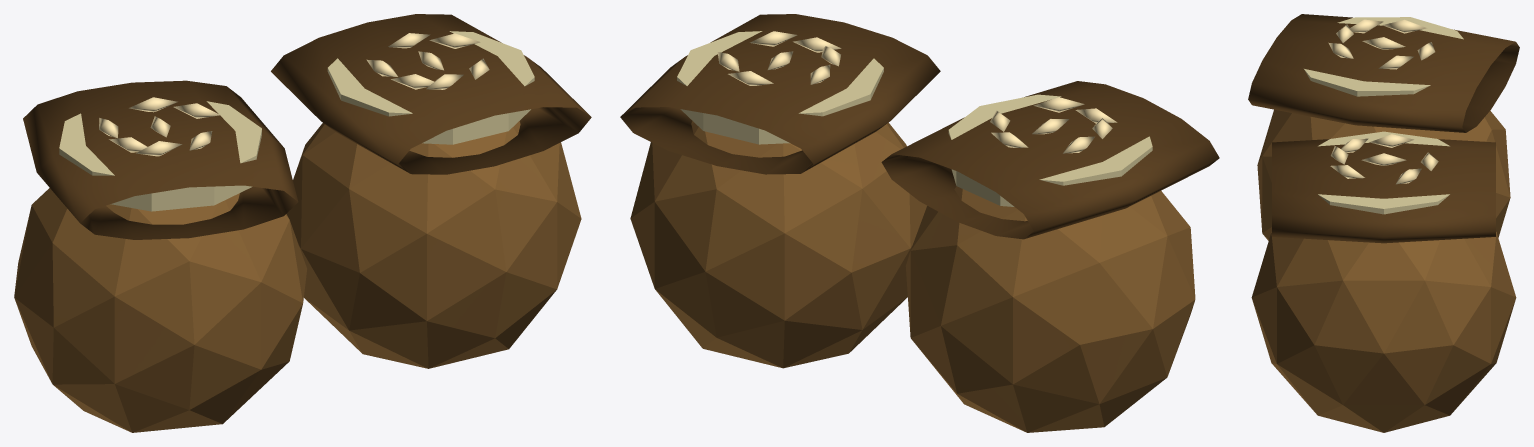
Rendered from pile-milledRice-2.obj.
3 views of the same model, side by side, from view 1: azimuth 30°, elevation 25°; view 2: azimuth 150°, elevation 25°; view 3: azimuth 270°, elevation 25° (orthographic). The views are drawn at different scales.
Visible parts, largest first — view 1: pile-milledRice-2; view 2: pile-milledRice-2; view 3: pile-milledRice-2.
Boxes of the visible parts, left/top/right/bottom form: pile-milledRice-2: left=14, top=14, right=591, bottom=432; pile-milledRice-2: left=620, top=14, right=1219, bottom=432; pile-milledRice-2: left=1248, top=14, right=1519, bottom=432.
Bounding box in the file's own units: 0.5257 × 0.2915 × 0.267.
Materials: 1 (1 with a texture image).
